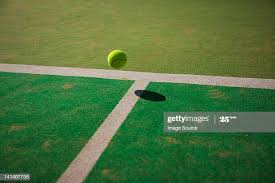tennis_ball: (107, 49, 127, 70)
